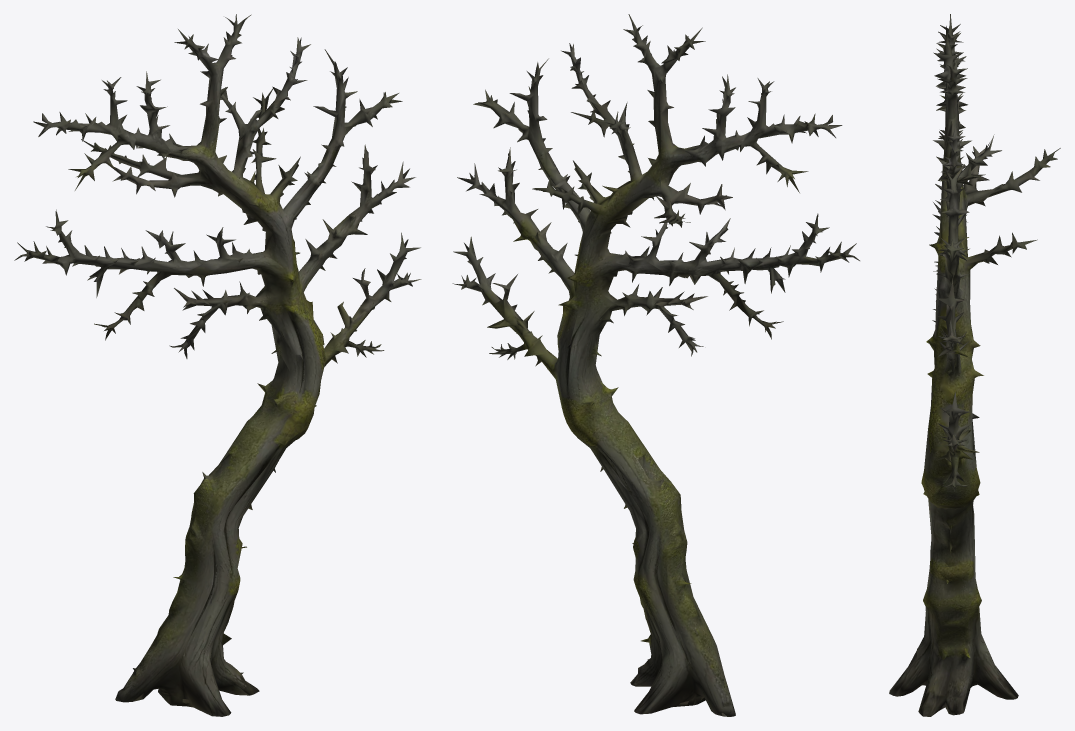
The model's file is deadhawthorn.opt.glb.
The picture shows the model from 3 angles, left to right: view 1: azimuth 30°, elevation 25°; view 2: azimuth 150°, elevation 25°; view 3: azimuth 270°, elevation 25°; orthographic projection.
Visible parts, largest first — view 1: node_0; view 2: node_0; view 3: node_0.
Part boxes in pixels (x1,y1,x2,y2): node_0: [14, 14, 421, 716]; node_0: [452, 14, 859, 716]; node_0: [889, 14, 1060, 716].
Bounding box in the file's own units: 0.7321 × 1.16 × 0.274.
1 material, 1 textured.
